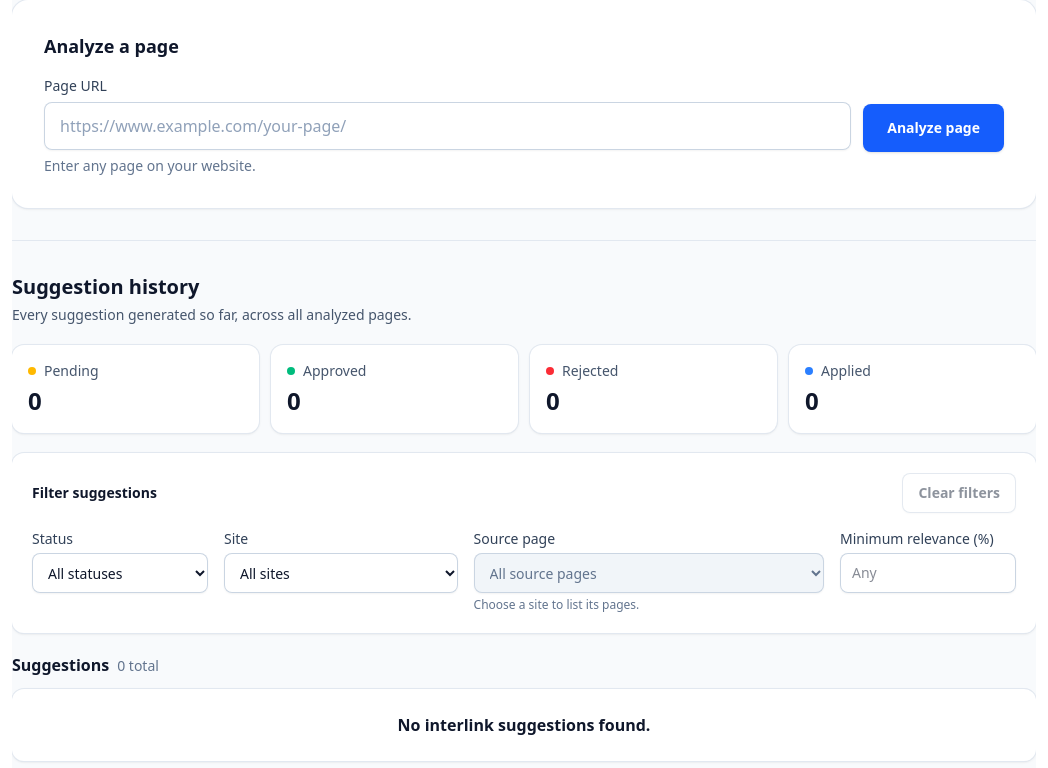
new page discovery › explains a failed crawl (PAGE_HTTP_ERROR)
In the field labelled "Page URL": (448, 126) [44,102,851,150], type "https://example.test/new-service/"
Then press Enter
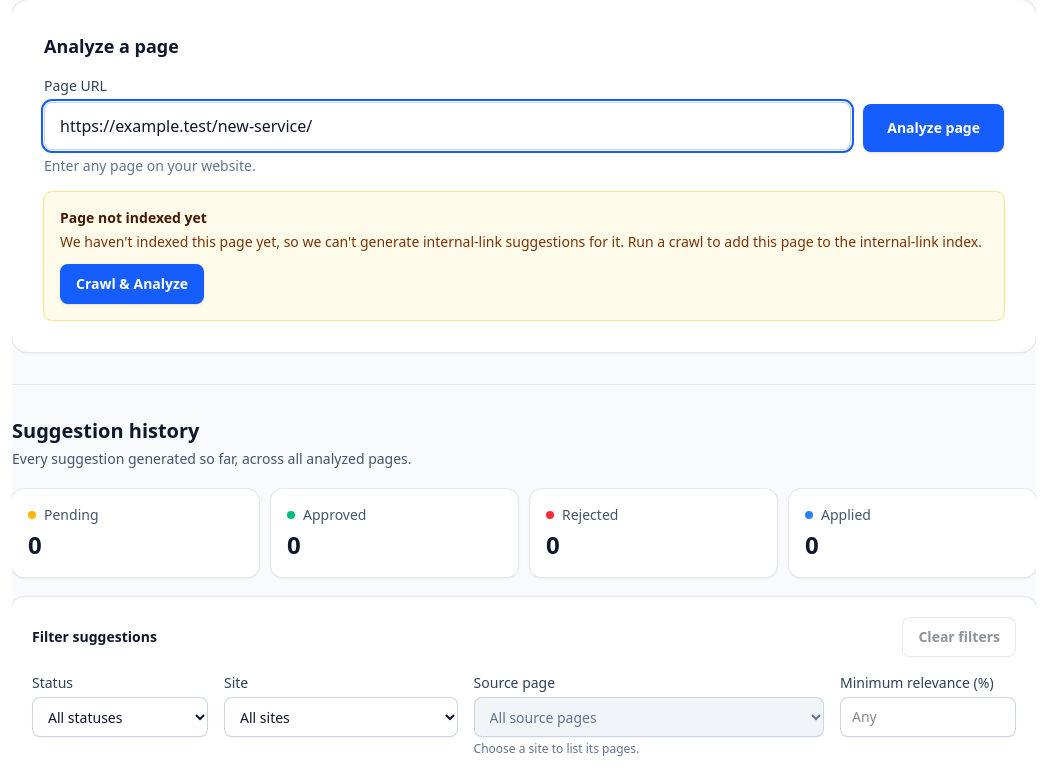
Click the button "Crawl & Analyze": (132, 284) [60,264,204,304]
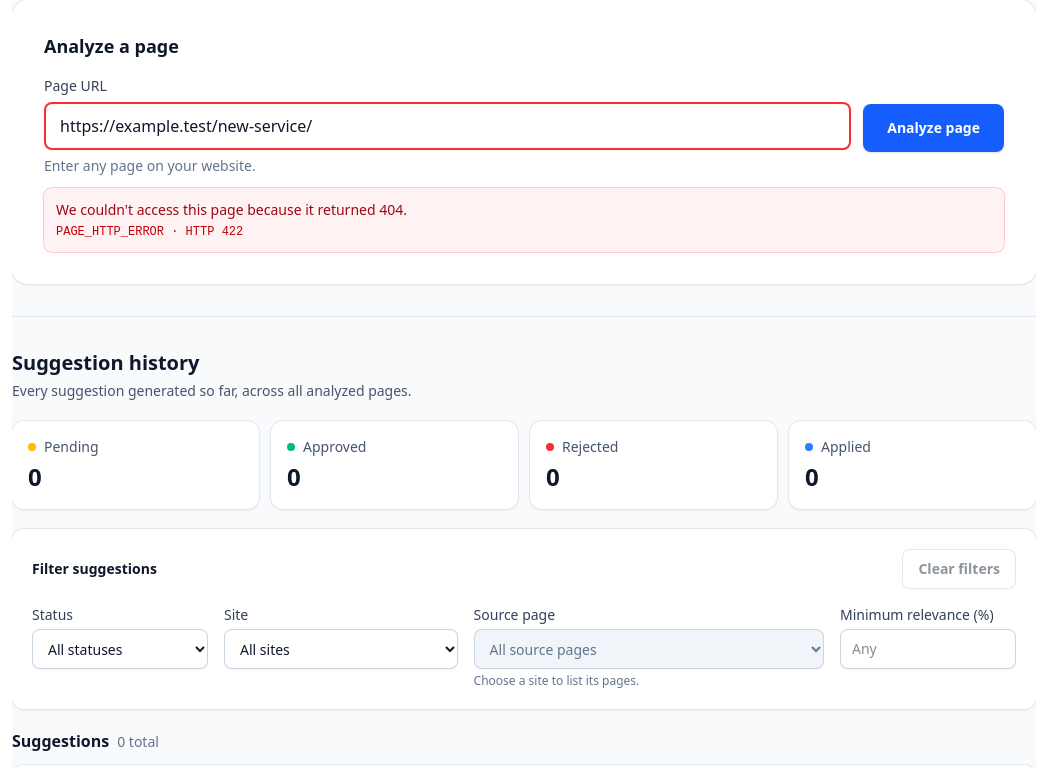
Check: the button "Analyze page" is enabled, box [863,104,1004,152]
Check: the message shows "We couldn't access this page because it returned 404.", box [56,200,407,219]
Check: the heading "Page not indexed yet" is gone
